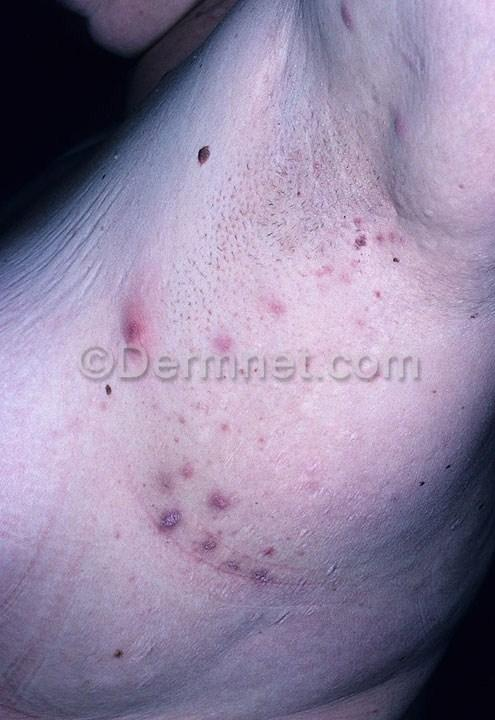Acne: (163, 471, 316, 587), (101, 291, 173, 357), (198, 313, 273, 367)
